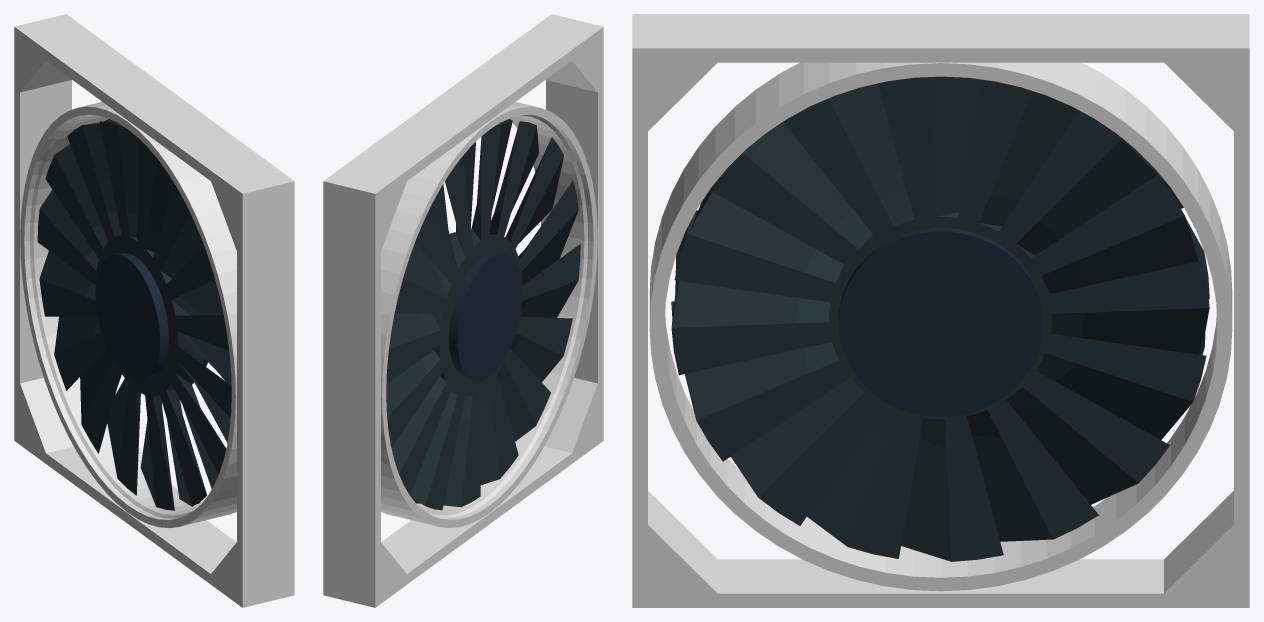
File: Fan Case 3.glb
The picture shows the model from 3 angles, left to right: view 1: azimuth 30°, elevation 25°; view 2: azimuth 150°, elevation 25°; view 3: azimuth 270°, elevation 25°; orthographic projection. The views are drawn at different scales.
Visible parts, largest first — view 1: Cube.131, Gear.010, Cylinder.049, Cylinder.061; view 2: Cube.131, Gear.010, Cylinder.049, Cylinder.061; view 3: Gear.010, Cube.131, Cylinder.049, Cylinder.061.
Part boxes in pixels (bbox=[...]): Cube.131: bbox=[14, 14, 294, 607]; Gear.010: bbox=[37, 119, 231, 510]; Cylinder.049: bbox=[20, 102, 236, 528]; Cylinder.061: bbox=[95, 253, 207, 380]; Cube.131: bbox=[323, 14, 603, 607]; Gear.010: bbox=[386, 118, 580, 510]; Cylinder.049: bbox=[381, 102, 597, 528]; Cylinder.061: bbox=[449, 232, 522, 380]; Gear.010: bbox=[671, 76, 1209, 561]; Cube.131: bbox=[632, 14, 1249, 607]; Cylinder.049: bbox=[649, 62, 1232, 591]; Cylinder.061: bbox=[838, 227, 1043, 416].
Bounding box in the file's own units: 0.0194 × 0.1459 × 0.1459.
Materials: 3 (1 with a texture image).
